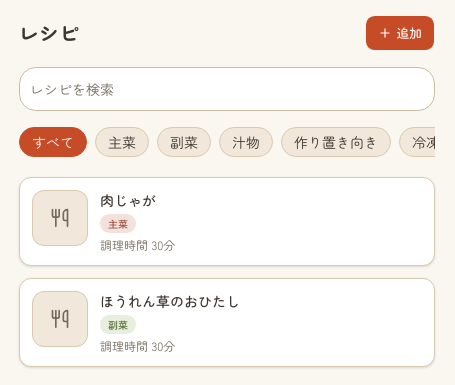
Scenario: RecipeListClient › RLC-02: 検索とタグで絞り込まれ、全滅時は「該当するレシピがありません」
Expected: the text "肉じゃが" is shown, [100,190,156,210]
Expected: the text "ほうれん草のおひたし" is shown, [100,291,240,311]
Click the button "副菜" at (184, 142), box [157,127,211,157]
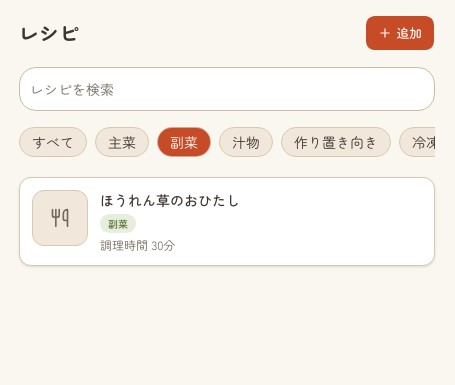
Expected: the text "ほうれん草のおひたし" is shown, [100,190,240,210]
Now the link "肉じゃが" is gone
Type "肉じゃが" into the search field labelled "レシピを検索" at (227, 89), box [19,67,435,111]
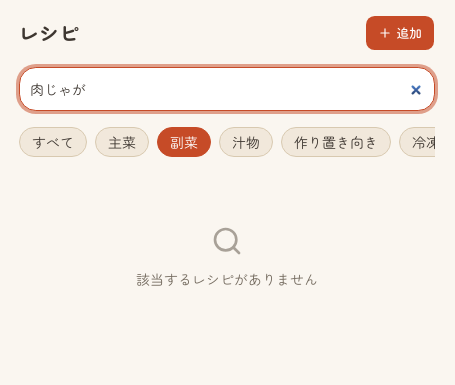
Now the link "ほうれん草のおひたし" is gone
Now the text "該当するレシピがありません" is shown, box [136,269,318,289]
